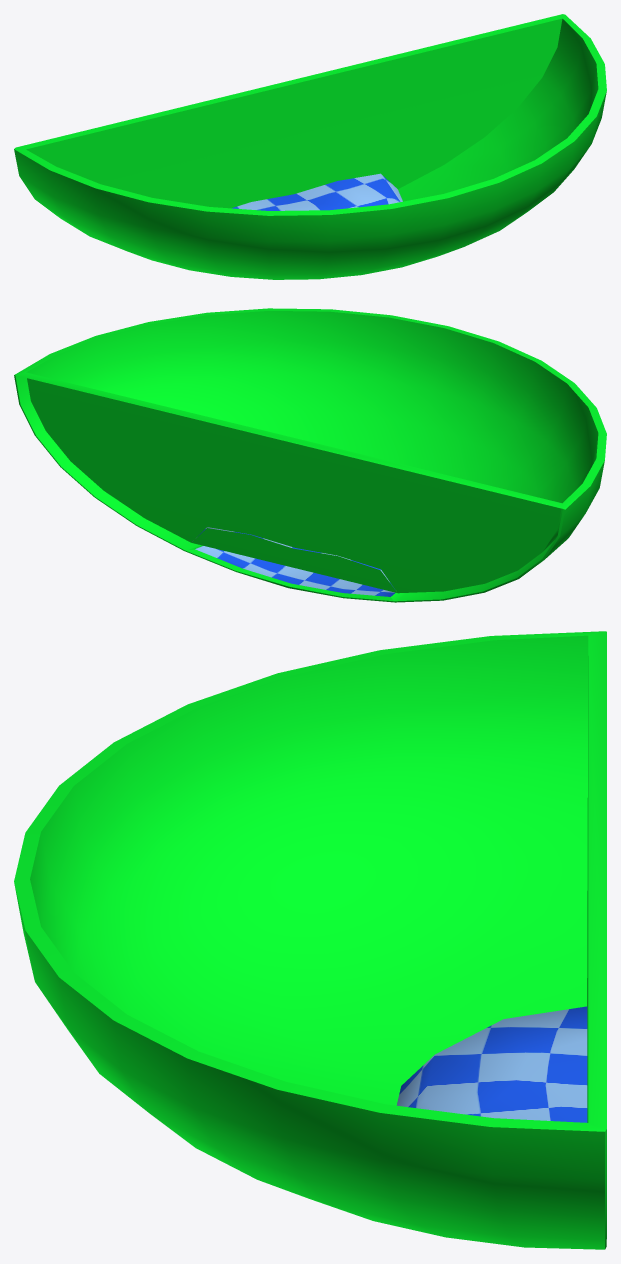
The model's file is LightWall07_2.FBX.
The picture shows the model from 3 angles, top to bottom: view 1: azimuth 30°, elevation 25°; view 2: azimuth 150°, elevation 25°; view 3: azimuth 270°, elevation 25°; orthographic projection. The views are drawn at different scales.
Parts seen in each view (by area): view 1: LightWall07_2; view 2: LightWall07_2; view 3: LightWall07_2.
Boxes of the visible parts, x1=… form: LightWall07_2: x1=14, y1=14, x2=606, y2=279; LightWall07_2: x1=14, y1=308, x2=606, y2=602; LightWall07_2: x1=14, y1=631, x2=606, y2=1249.
Bounding box in the file's own units: 39.88 × 10.6 × 19.96.
